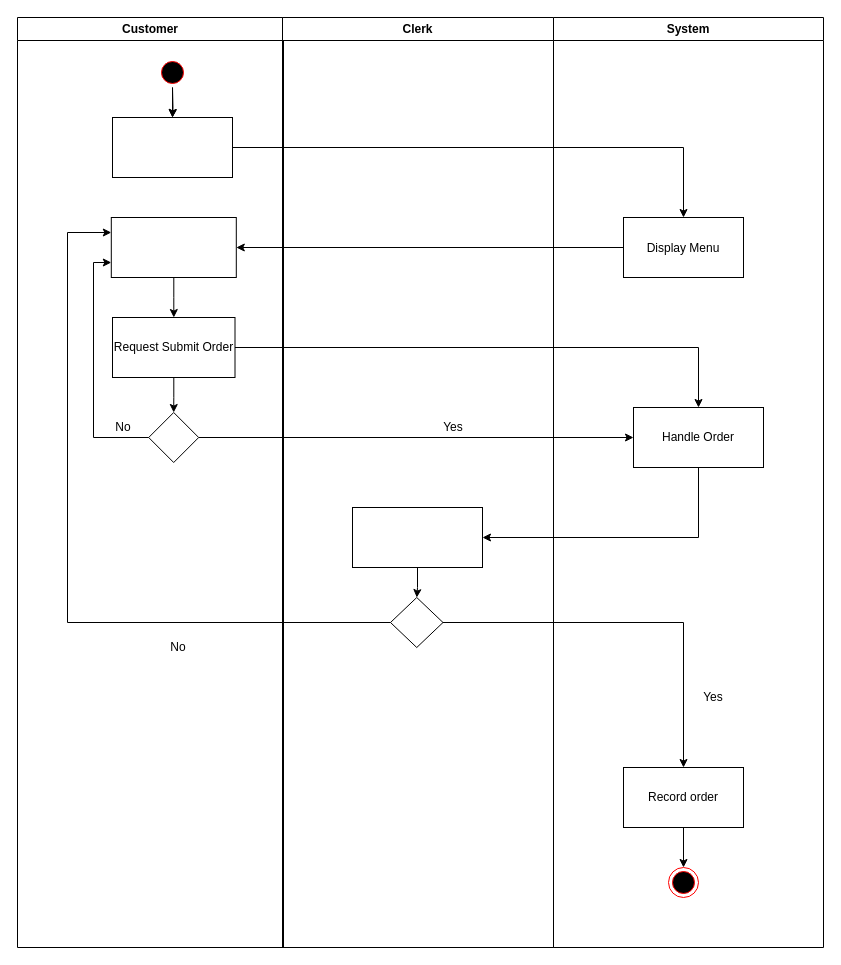
Some shapes in this 841 by 965 pixel diagram are drawn without their labels. Each missing label, with the centre of its shape:
Comfirm Order: (417,537)
Make an Order Request: (172,147)
Requests Choose Dishes Add to Order: (173,247)
